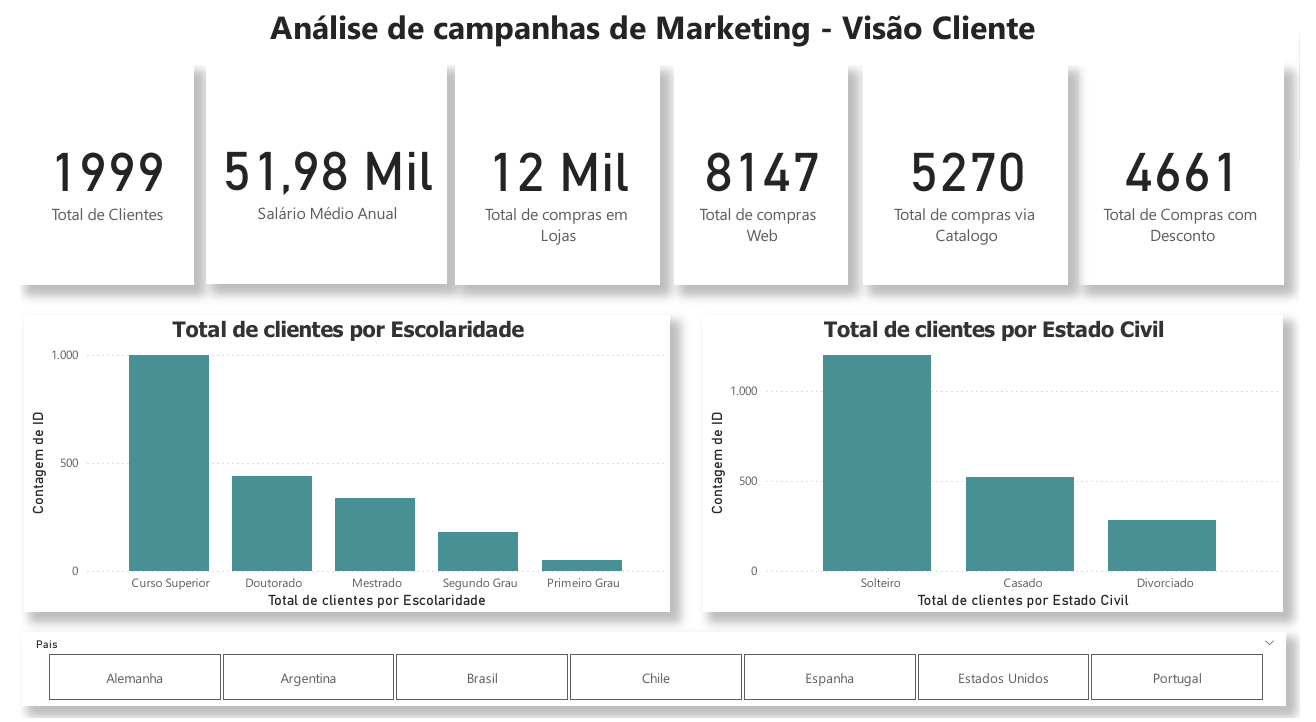

Layout of this report page (visuals, bound fields, positions):
{"tool":"powerbi","page":{"name":"Visão Cliente","canvas":[1280,720],"ordinal":0},"visuals":[{"type":"card","fields":{"Values":["CountNonNull(DadosMarketing.ID)"]},"box":[0,67.9,174.8,220],"z":0},{"type":"card","fields":{"Values":["Avg(DadosMarketing.Salario Anual)"]},"box":[187.3,66.6,240.2,220],"z":1000},{"type":"card","fields":{"Values":["Sum(DadosMarketing.Numero de Compras na Loja)"]},"box":[436.3,67.9,205,220],"z":2000},{"type":"card","fields":{"Values":["Sum(DadosMarketing.Numero de Compras na Web)"]},"box":[655.1,67.9,173.5,220],"z":3000},{"type":"card","fields":{"Values":["Sum(DadosMarketing.Numero de Compras com Desconto)"]},"box":[1060.4,67.8,204.8,219.9],"z":4000},{"type":"card","fields":{"Values":["Sum(DadosMarketing.Numero de Compras via Catalogo)"]},"box":[843.7,67.9,205,220],"z":5000},{"type":"textbox","box":[0,0,1264.9,67.8],"z":6000},{"type":"clusteredColumnChart","title":"Total de clientes por Escolaridade","fields":{"Category":["DadosMarketing.Escolaridade"],"Y":["CountNonNull(DadosMarketing.ID)"]},"box":[5,318.1,646.3,296.7],"z":7000},{"type":"clusteredColumnChart","title":"Total de clientes por Estado Civil","fields":{"Category":["DadosMarketing.Estado Civil"],"Y":["CountNonNull(DadosMarketing.ID)"]},"box":[684,318.1,579.6,296.7],"z":8000},{"type":"slicer","fields":{"Values":["DadosMarketing.Pais"]},"box":[2.5,635,1264.9,74.2],"z":9000}]}

Visuals, with their boxes in screenshot pixels (x1, y1, x2, y2), scaled from the page's 1280x720 canvas onto the 1316x722 screenshot:
card - CountNonNull(DadosMarketing.ID): rect(0, 68, 180, 289)
card - Avg(DadosMarketing.Salario Anual): rect(193, 67, 440, 287)
card - Sum(DadosMarketing.Numero de Compras na Loja): rect(449, 68, 659, 289)
card - Sum(DadosMarketing.Numero de Compras na Web): rect(674, 68, 852, 289)
card - Sum(DadosMarketing.Numero de Compras com Desconto): rect(1090, 68, 1301, 288)
card - Sum(DadosMarketing.Numero de Compras via Catalogo): rect(867, 68, 1078, 289)
textbox: rect(0, 0, 1300, 68)
"Total de clientes por Escolaridade" clusteredColumnChart: rect(5, 319, 670, 617)
"Total de clientes por Estado Civil" clusteredColumnChart: rect(703, 319, 1299, 617)
slicer - DadosMarketing.Pais: rect(3, 637, 1303, 711)
